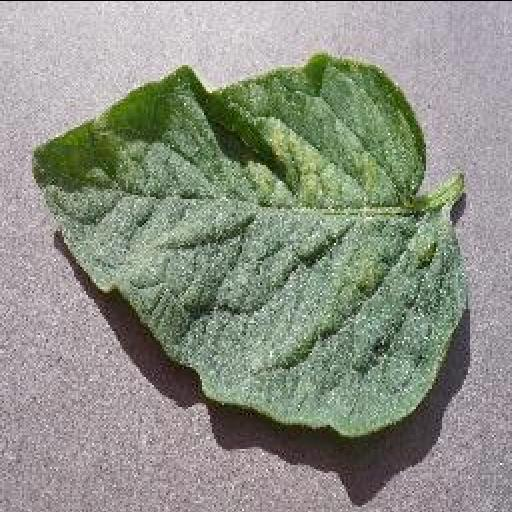disease_tomato: (34, 52, 468, 438)
